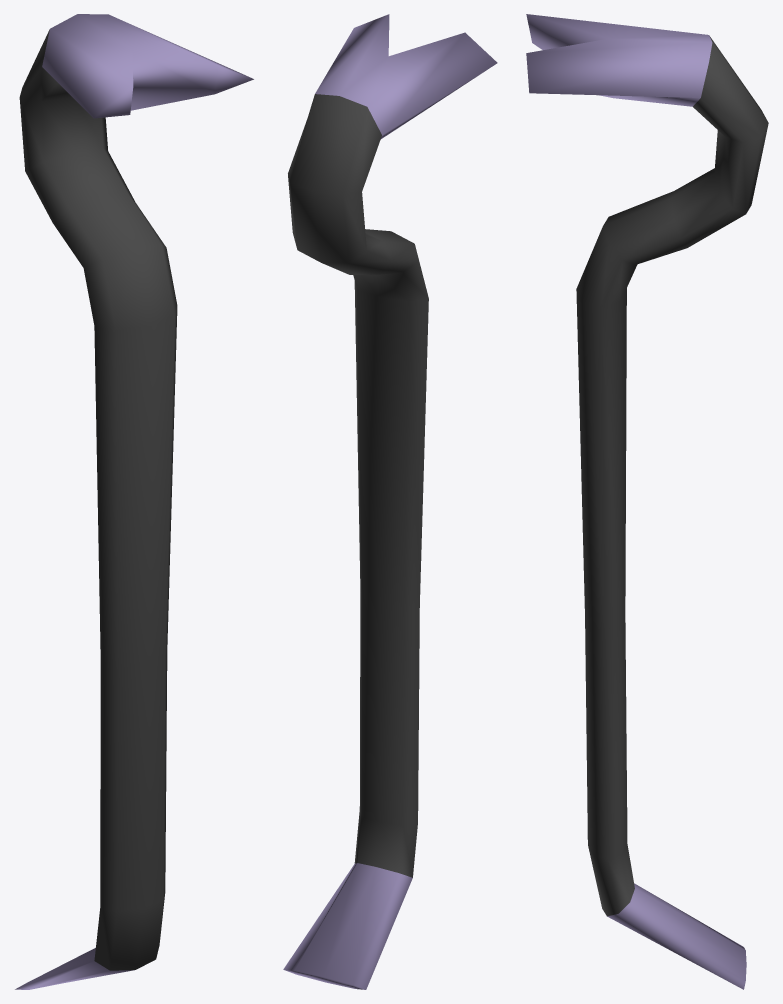
The model's file is Scrap.fbx.
3 views of the same model, side by side, from view 1: azimuth 30°, elevation 25°; view 2: azimuth 150°, elevation 25°; view 3: azimuth 270°, elevation 25° (orthographic). The views are drawn at different scales.
Visible parts, largest first — view 1: Scrap; view 2: Scrap; view 3: Scrap.
Part boxes in pixels (x1=…): Scrap: x1=15, y1=14, x2=253, y2=989; Scrap: x1=283, y1=14, x2=497, y2=989; Scrap: x1=526, y1=14, x2=768, y2=989.
Size of the model in its own units: 0.4053 by 2.38 by 0.5578.
